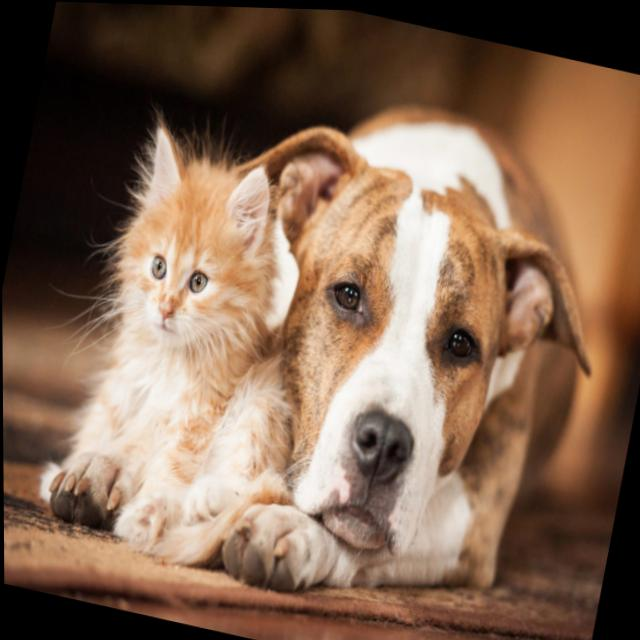Cat: (0, 40, 322, 566)
Dog: (189, 86, 640, 640)
